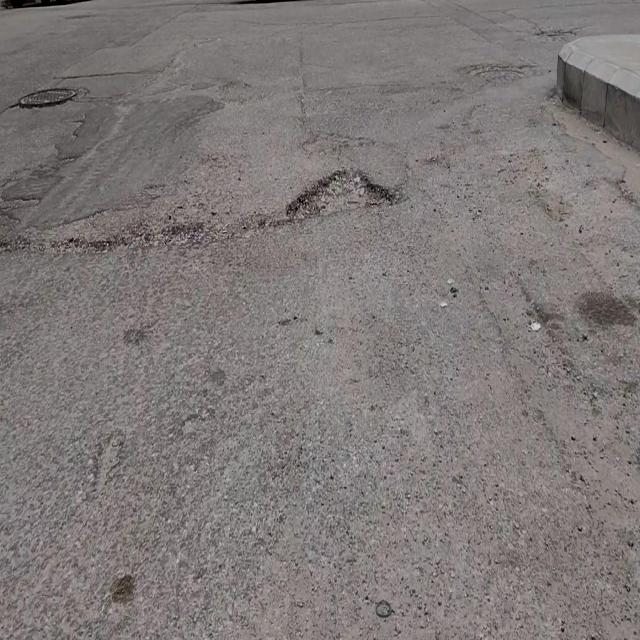Potholes: (282, 162, 395, 226)
